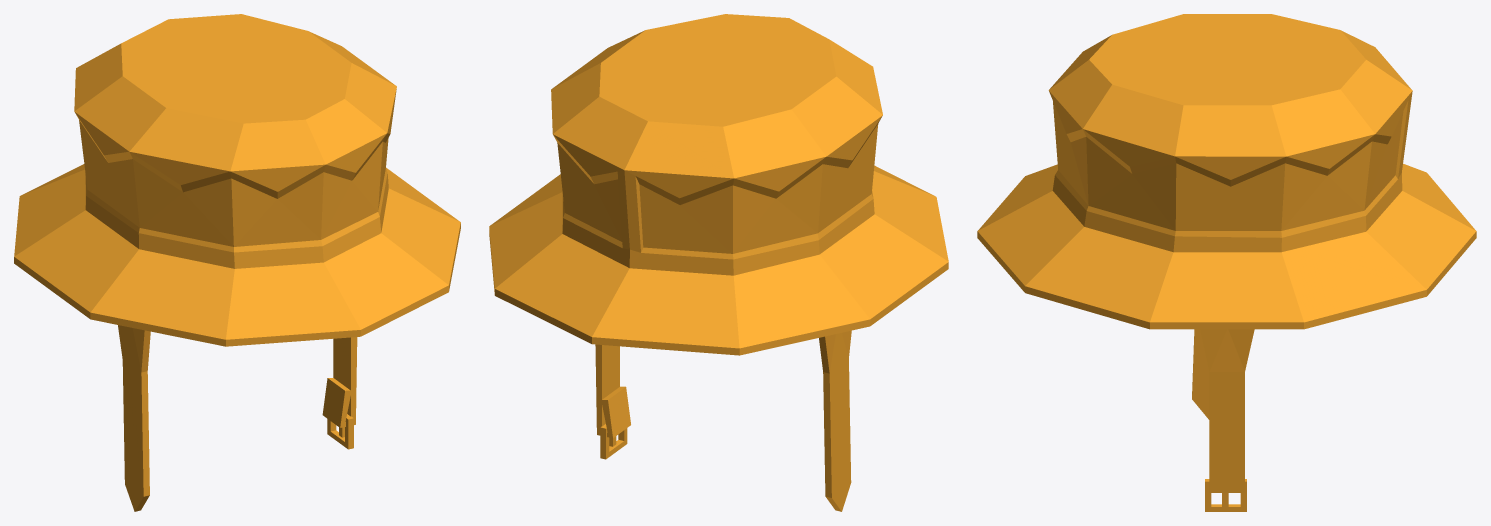
Rendered from SM_Helmet_Kattle_Hat_B.fbx.
The picture shows the model from 3 angles, left to right: view 1: azimuth 30°, elevation 25°; view 2: azimuth 150°, elevation 25°; view 3: azimuth 270°, elevation 25°; orthographic projection. The views are drawn at different scales.
Parts seen in each view (by area): view 1: helmet-kattle-hat-b; view 2: helmet-kattle-hat-b; view 3: helmet-kattle-hat-b.
Boxes of the visible parts, x1,y1,x2,y2 form: helmet-kattle-hat-b: (14, 14, 460, 511); helmet-kattle-hat-b: (489, 14, 948, 511); helmet-kattle-hat-b: (977, 14, 1476, 511).
Size of the model in its own units: 0.3246 by 0.3425 by 0.3749.
